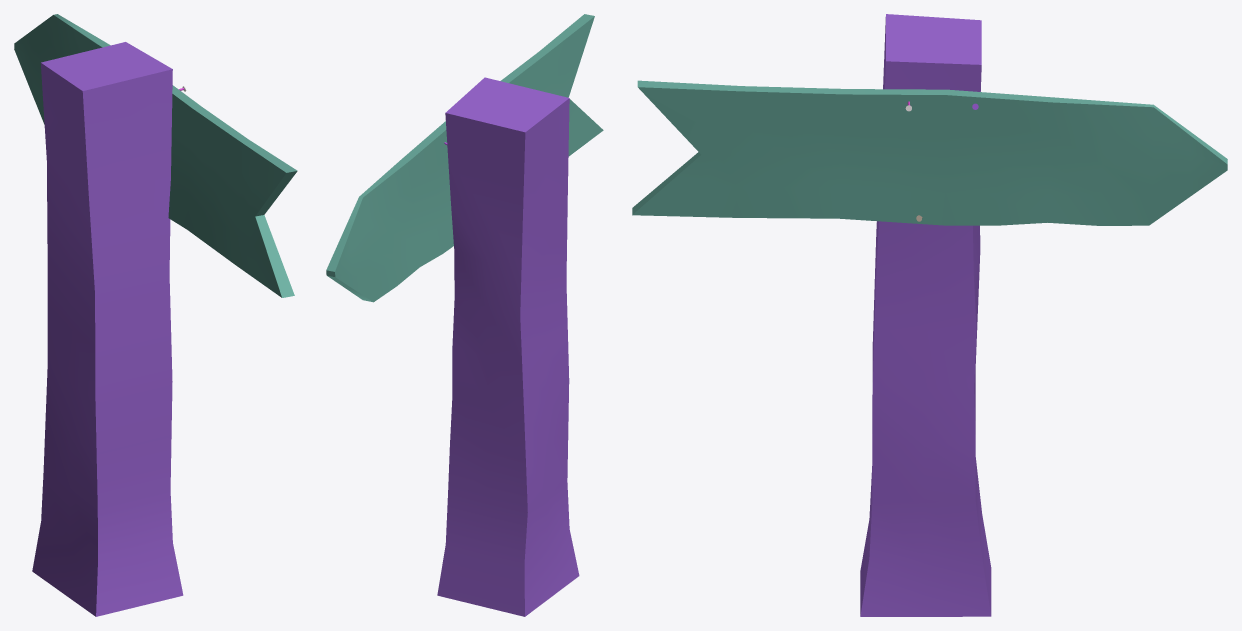
3 renders of one model, left to right at view 1: azimuth 30°, elevation 25°; view 2: azimuth 150°, elevation 25°; view 3: azimuth 270°, elevation 25°, orthographic. The views are drawn at different scales.
Visible parts, largest first — view 1: split_parent_0, Cube_Material.001_0.044; view 2: split_parent_0, Cube_Material.001_0.044; view 3: Cube_Material.001_0.044, split_parent_0.
Boxes of the visible parts, x1,y1,x2,y2 form: split_parent_0: [32, 42, 183, 616]; Cube_Material.001_0.044: [14, 14, 297, 297]; split_parent_0: [437, 77, 579, 616]; Cube_Material.001_0.044: [326, 14, 603, 302]; Cube_Material.001_0.044: [632, 80, 1227, 225]; split_parent_0: [860, 14, 991, 616].
Bounding box in the file's own units: 0.2316 × 1 × 0.9703.
